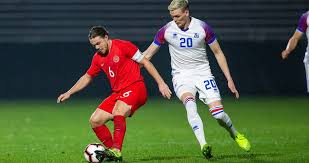football: (84, 142, 105, 161)
